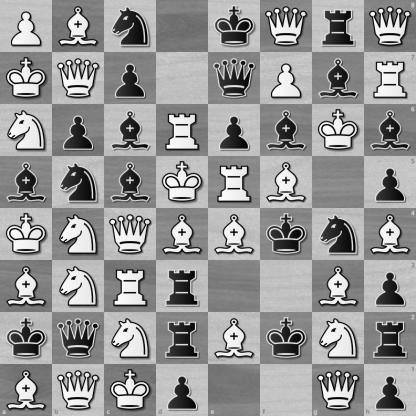B: (0, 364, 52, 416), (364, 209, 416, 260), (1, 261, 52, 312), (53, 1, 104, 52), (157, 209, 208, 260), (209, 209, 260, 260), (209, 313, 260, 364), (261, 157, 312, 208), (313, 261, 364, 312)
K: (104, 364, 156, 416), (1, 53, 52, 104), (1, 209, 52, 260), (157, 157, 208, 208), (313, 105, 364, 156)
N: (1, 105, 52, 156), (53, 209, 104, 260), (53, 261, 104, 312), (105, 313, 156, 364), (313, 313, 364, 364)
P: (1, 1, 52, 52), (261, 53, 312, 104)
Q: (52, 364, 104, 416), (312, 364, 364, 416), (364, 0, 416, 52), (53, 53, 104, 104), (105, 209, 156, 260), (261, 1, 312, 52)
R: (364, 52, 416, 104), (105, 261, 156, 312), (157, 105, 208, 156), (209, 157, 260, 208)
b: (364, 104, 416, 156), (1, 157, 52, 208), (105, 105, 156, 156), (105, 157, 156, 208), (261, 105, 312, 156), (313, 53, 364, 104)
board: (0, 0, 415, 415)
k: (1, 313, 52, 364), (209, 1, 260, 52), (261, 209, 312, 260), (261, 313, 312, 364)
n: (53, 157, 104, 208), (105, 1, 156, 52), (313, 209, 364, 260)
p: (156, 364, 209, 416), (364, 156, 416, 209), (364, 260, 416, 312), (364, 364, 416, 416), (53, 105, 104, 156), (105, 53, 156, 104), (209, 105, 260, 156)
q: (53, 313, 104, 364), (209, 53, 260, 104)
r: (364, 312, 416, 364), (157, 261, 208, 312), (157, 313, 208, 364), (313, 1, 364, 52)
